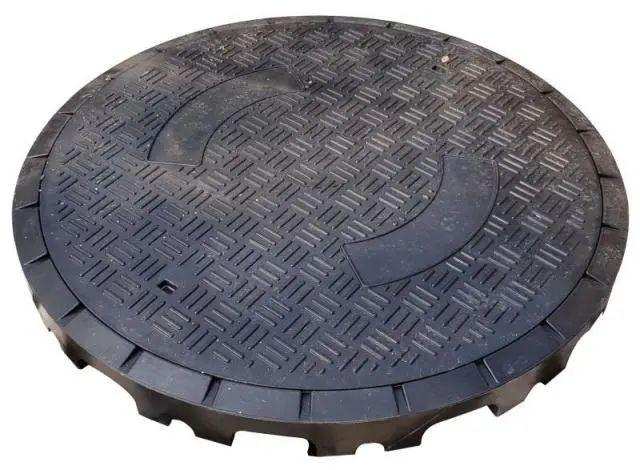wellcover: (30, 3, 624, 427)
